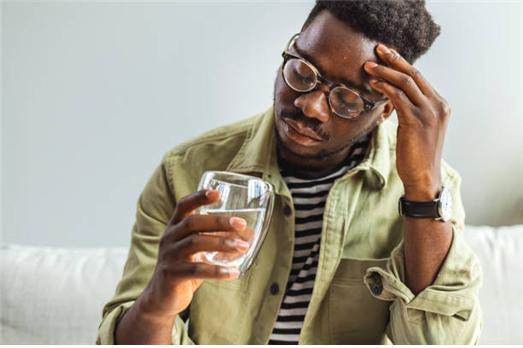alcohol: (195, 173, 273, 278)
